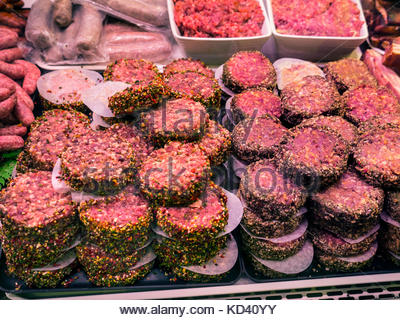ground_beef: (191, 71, 399, 268), (26, 106, 229, 272)
